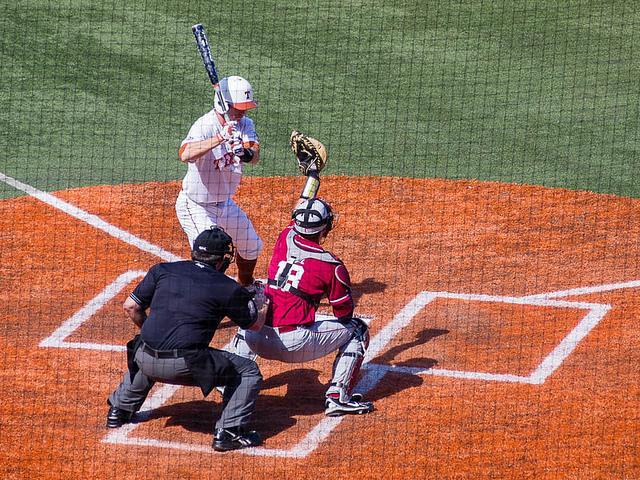baseball bat: (189, 22, 231, 122)
